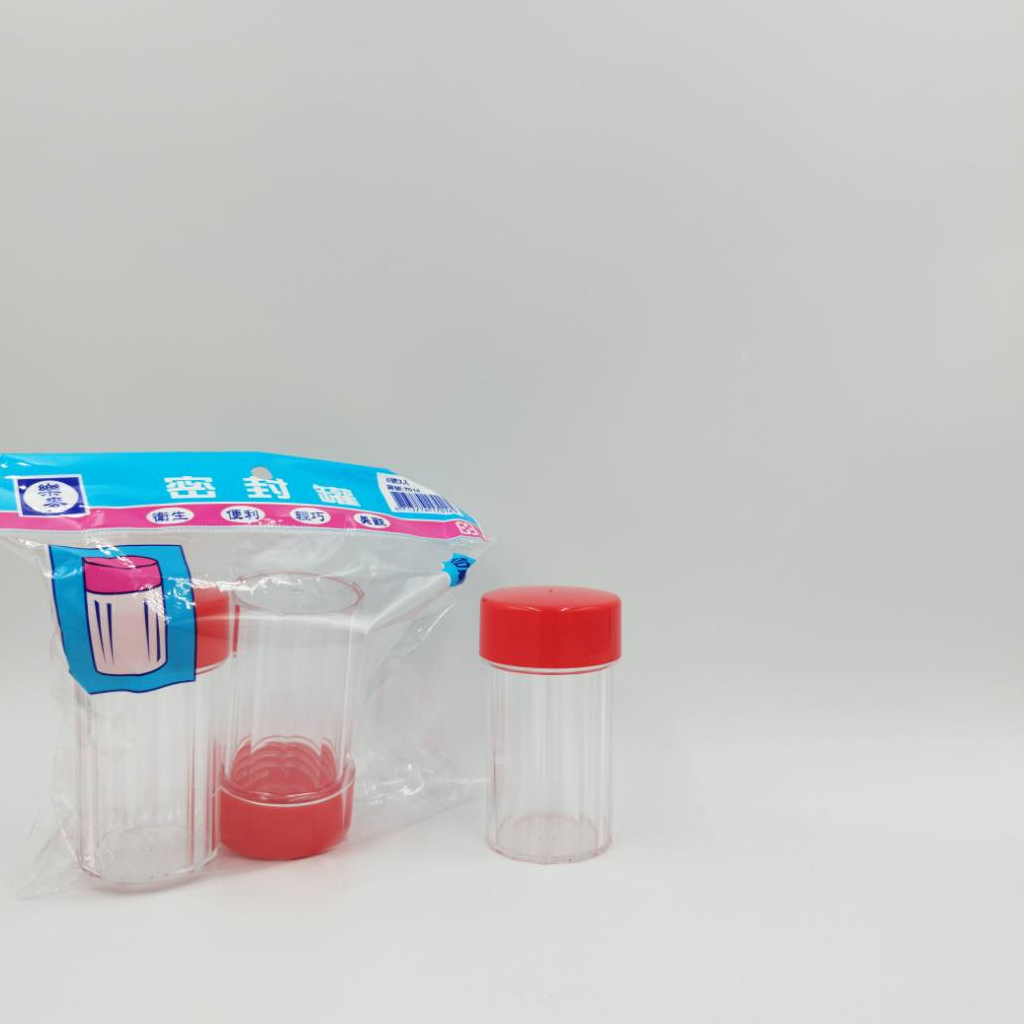medicinejar: (74, 561, 240, 913), (465, 584, 635, 879), (224, 571, 379, 884)
